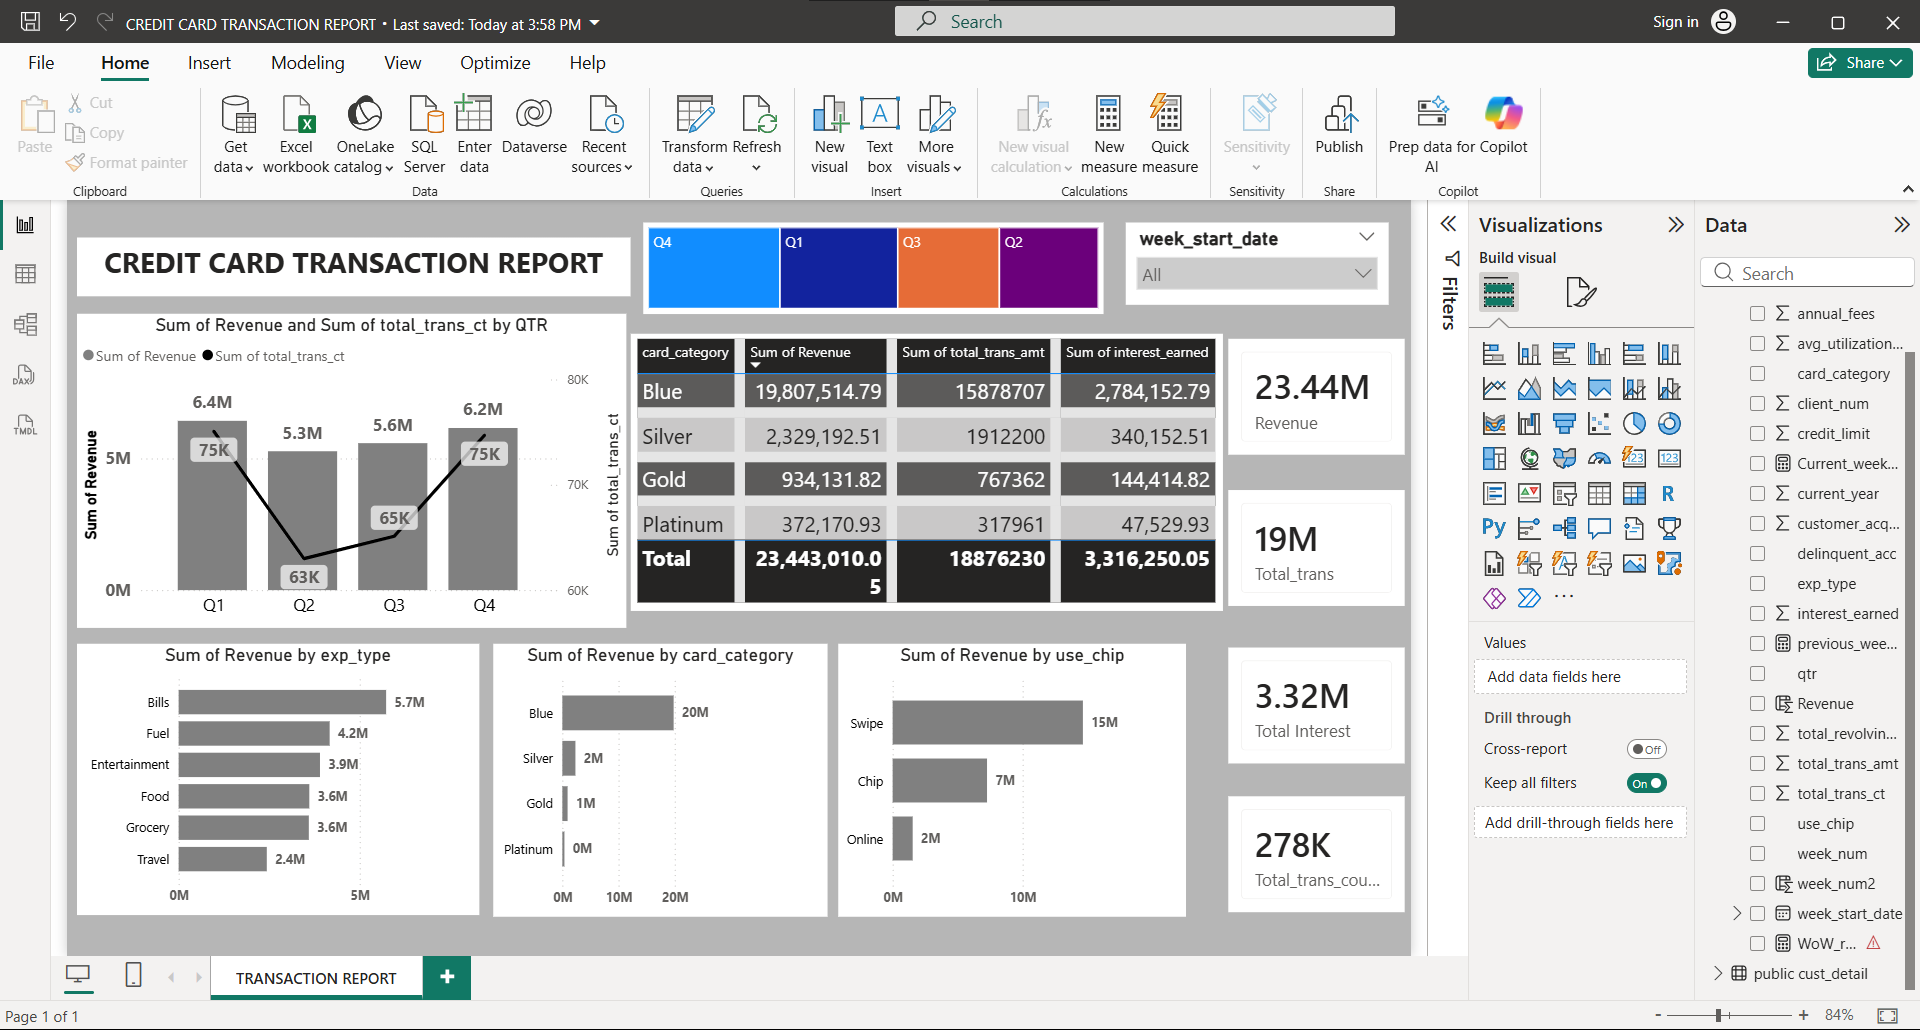

The page's visual inventory and layout, read from the dashboard file:
{"tool":"powerbi","page":{"name":"TRANSACTION REPORT","canvas":[1280,720],"ordinal":0},"visuals":[{"type":"textbox","box":[10,35.7,527.1,55.7],"z":0},{"type":"lineStackedColumnComboChart","title":"Sum of Revenue and Sum of total_trans_ct by QTR","fields":{"Category":["public cc_detail.qtr"],"Y":["Sum(public cc_detail.Revenue)"],"Y2":["Sum(public cc_detail.total_trans_ct)"]},"box":[9.6,108.4,522.8,299.1],"z":1000},{"type":"barChart","fields":{"Y":["Sum(public cc_detail.Revenue)"],"Category":["public cc_detail.exp_type"]},"box":[10,422.9,382.9,258.6],"z":2000},{"type":"barChart","fields":{"Y":["Sum(public cc_detail.Revenue)"],"Category":["public cc_detail.card_category"]},"box":[405.7,422.9,318.6,260],"z":3000},{"type":"barChart","fields":{"Y":["Sum(public cc_detail.Revenue)"],"Category":["public cc_detail.use_chip"]},"box":[734.3,422.9,331.4,260],"z":3001},{"type":"tableEx","fields":{"Values":["public cc_detail.card_category","Sum(public cc_detail.Revenue)","Sum(public cc_detail.total_trans_amt)","Sum(public cc_detail.interest_earned)"]},"box":[537.1,127.1,564.3,264.3],"z":3002},{"type":"cardVisual","fields":{"Data":["Sum(public cc_detail.Revenue)"]},"box":[1101.4,127.1,178.6,120],"z":3003},{"type":"cardVisual","fields":{"Data":["Sum(public cc_detail.total_trans_amt)"]},"box":[1101.4,271.4,178.6,120],"z":3004},{"type":"cardVisual","fields":{"Data":["Sum(public cc_detail.interest_earned)"]},"box":[1101.4,421.4,178.6,120],"z":3005},{"type":"cardVisual","fields":{"Data":["Sum(public cc_detail.total_trans_ct)"]},"box":[1101.4,562.9,178.6,120],"z":3006},{"type":"slicer","fields":{"Values":["public cc_detail.week_start_date"]},"box":[1008.6,21.4,250,78.6],"z":3007},{"type":"treemap","fields":{"Group":["public cc_detail.qtr"],"Values":["Sum(public cc_detail.client_num)"]},"box":[548.6,21.4,438.6,87.1],"z":3008}]}

Visuals, with their boxes on the page's 1280x720 design canvas (x1, y1, x2, y2). These are canvas units, not pixel positions in the 1920x1030 screenshot, which may show the page scaled, cropped or inside an application window:
textbox: x1=10 y1=36 x2=537 y2=91
"Sum of Revenue and Sum of total_trans_ct by QTR" lineStackedColumnComboChart: x1=10 y1=108 x2=532 y2=408
barChart - Sum(public cc_detail.Revenue) x public cc_detail.exp_type: x1=10 y1=423 x2=393 y2=682
barChart - Sum(public cc_detail.Revenue) x public cc_detail.card_category: x1=406 y1=423 x2=724 y2=683
barChart - Sum(public cc_detail.Revenue) x public cc_detail.use_chip: x1=734 y1=423 x2=1066 y2=683
tableEx - public cc_detail.card_category x Sum(public cc_detail.Revenue): x1=537 y1=127 x2=1101 y2=391
cardVisual - Sum(public cc_detail.Revenue): x1=1101 y1=127 x2=1280 y2=247
cardVisual - Sum(public cc_detail.total_trans_amt): x1=1101 y1=271 x2=1280 y2=391
cardVisual - Sum(public cc_detail.interest_earned): x1=1101 y1=421 x2=1280 y2=541
cardVisual - Sum(public cc_detail.total_trans_ct): x1=1101 y1=563 x2=1280 y2=683
slicer - public cc_detail.week_start_date: x1=1009 y1=21 x2=1259 y2=100
treemap - public cc_detail.qtr x Sum(public cc_detail.client_num): x1=549 y1=21 x2=987 y2=108
